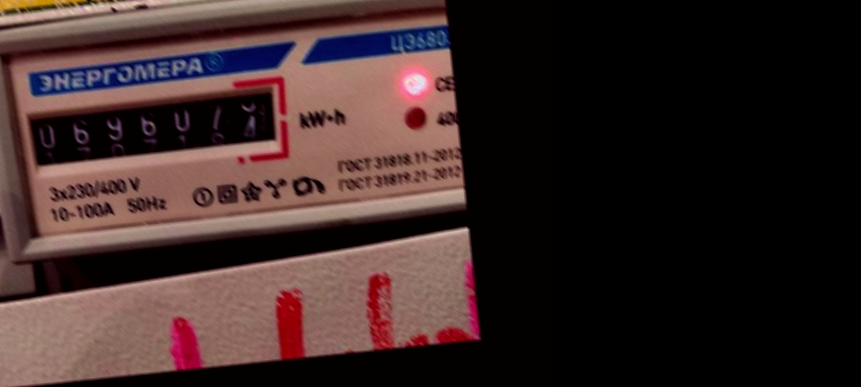0: (171, 102, 192, 134), (37, 120, 57, 150)
4: (239, 110, 259, 141)
6: (138, 107, 158, 137), (71, 116, 91, 145)
7: (205, 100, 227, 133)
9: (104, 112, 124, 142)
screen: (13, 72, 297, 184)
